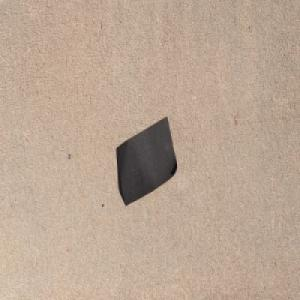PaintChip: (116, 115, 178, 206)
